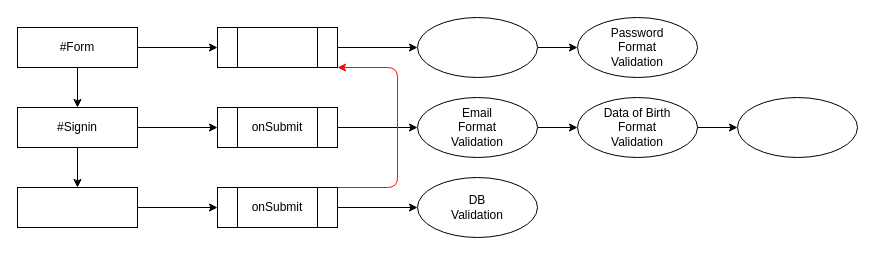
Image size: 875x255. Some labels were removed from this diagram. The shapes that lost their labels are listed below. From the top down, each one's box as (x1, y1, x2, y2) in pixels, then its label:
(216, 26, 338, 68): Can't Submit
(416, 16, 538, 78): Username Format Validation
(736, 96, 858, 158): Phone Number Format Validation
(16, 186, 138, 228): #Login
